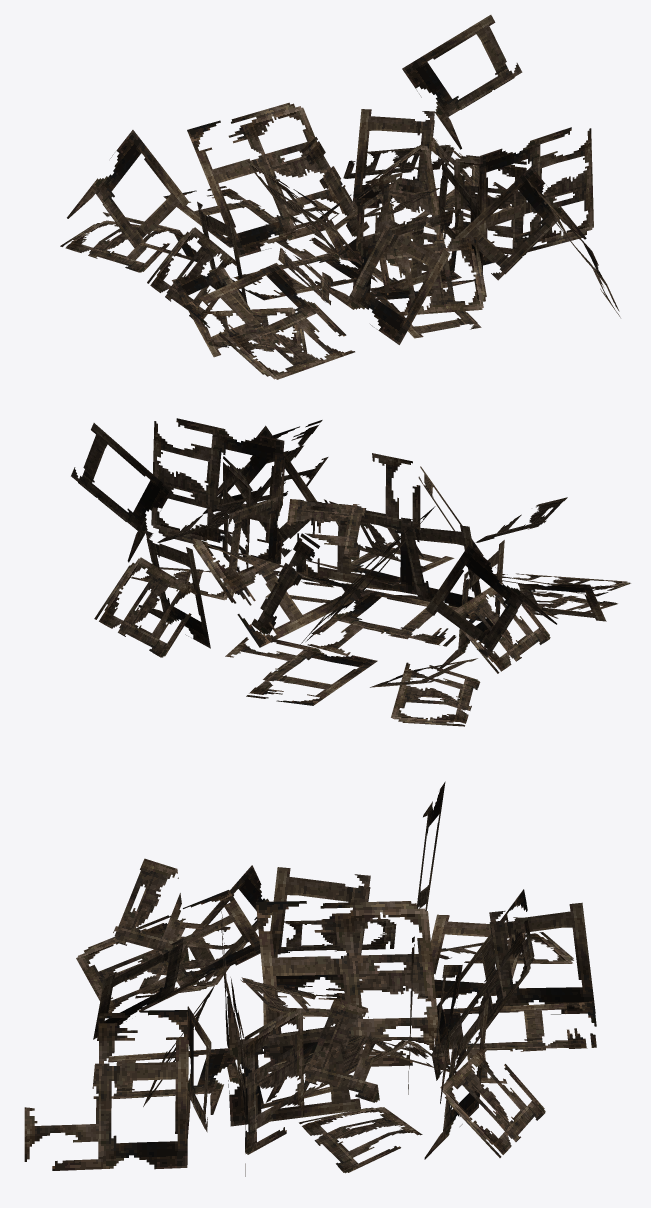
The model's file is WCRATE3X.glb.
3 renders of one model, top to bottom at view 1: azimuth 30°, elevation 25°; view 2: azimuth 150°, elevation 25°; view 3: azimuth 270°, elevation 25°, orthographic. The views are drawn at different scales.
Visible parts, largest first — view 1: _WCRATE3X; view 2: _WCRATE3X; view 3: _WCRATE3X.
Part boxes in pixels (left/top/right/bottom): _WCRATE3X: left=60, top=15, right=620, bottom=379; _WCRATE3X: left=71, top=418, right=630, bottom=726; _WCRATE3X: left=24, top=781, right=596, bottom=1176.
Size of the model in its own units: 3.41 by 1.24 by 3.07.
1 material, 1 textured.
